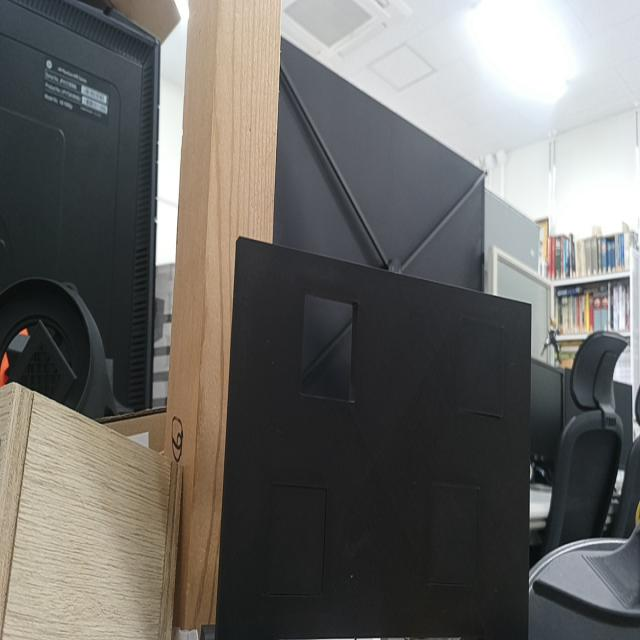Obstacle: (301, 289, 359, 405)
Wall: (224, 238, 532, 639)
